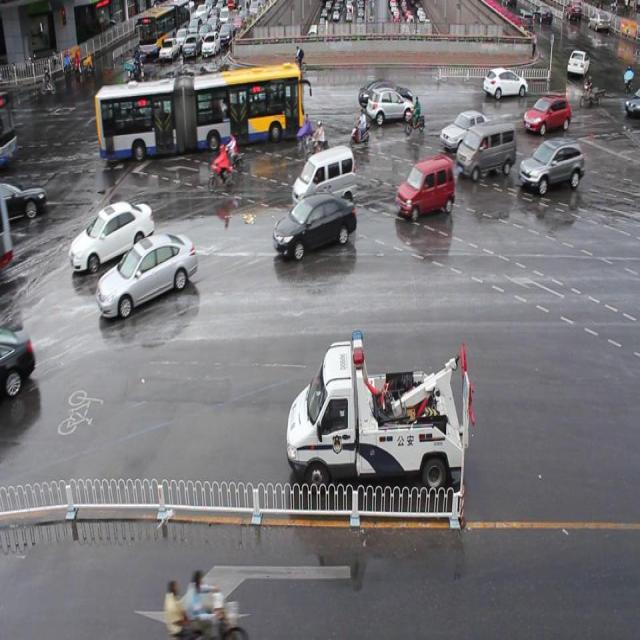bus: (286, 328, 474, 494)
car: (98, 234, 196, 316), (69, 204, 154, 269), (272, 195, 357, 252), (396, 158, 454, 218), (520, 141, 585, 191), (1, 327, 36, 403), (439, 110, 495, 148), (523, 92, 570, 132), (358, 78, 412, 109), (367, 87, 412, 123), (249, 75, 291, 108), (482, 66, 528, 96)
truck: (293, 149, 355, 208), (457, 123, 517, 178)
van: (94, 62, 301, 155)
